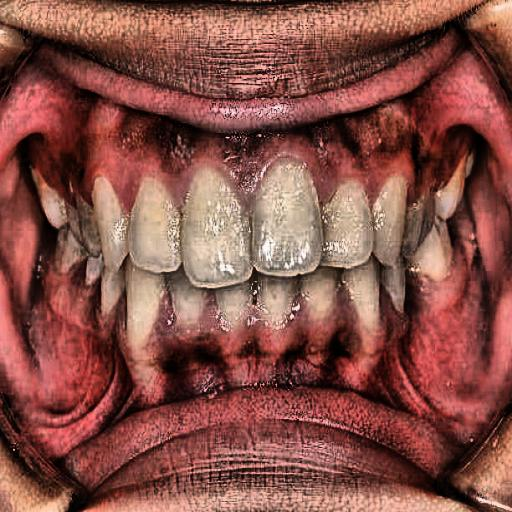Gingivitis: (35, 91, 454, 202)
